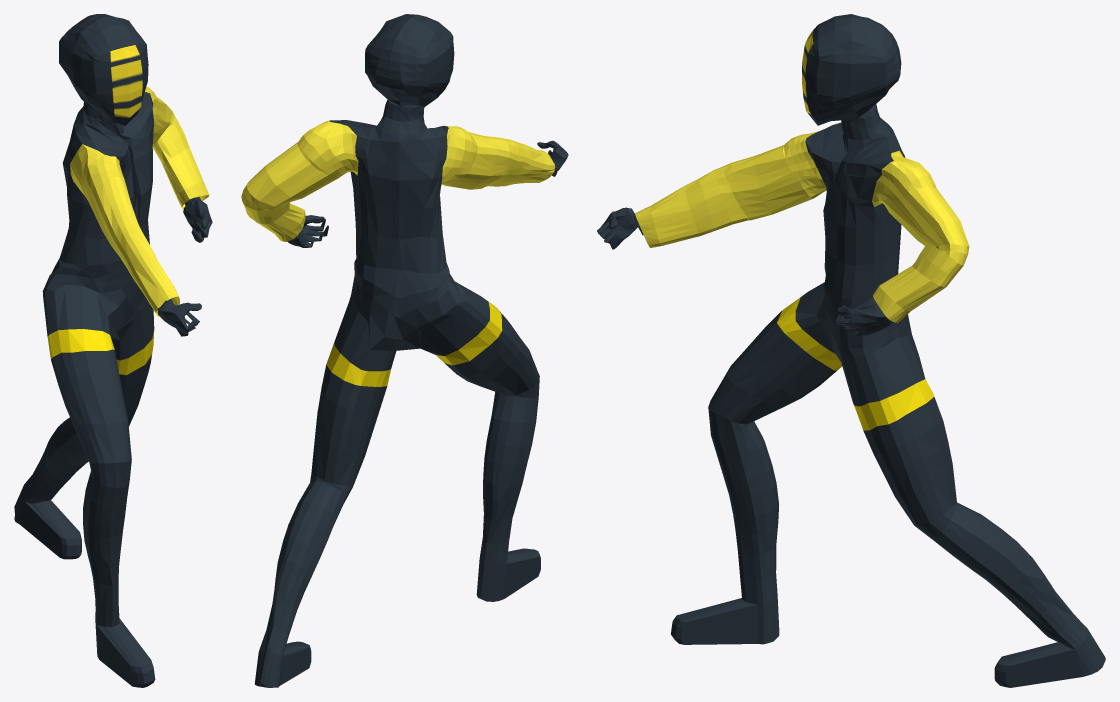
The model's file is Sentry_Attack_000037.obj.
The picture shows the model from 3 angles, left to right: view 1: azimuth 30°, elevation 25°; view 2: azimuth 150°, elevation 25°; view 3: azimuth 270°, elevation 25°; orthographic projection. The views are drawn at different scales.
Visible parts, largest first — view 1: Cube; view 2: Cube; view 3: Cube.
Part boxes in pixels (<box>): Cube: <box>14,14,212,687</box>; Cube: <box>241,14,568,687</box>; Cube: <box>597,14,1105,687</box>.
Bounding box in the file's own units: 1.24 × 3.63 × 2.59.
